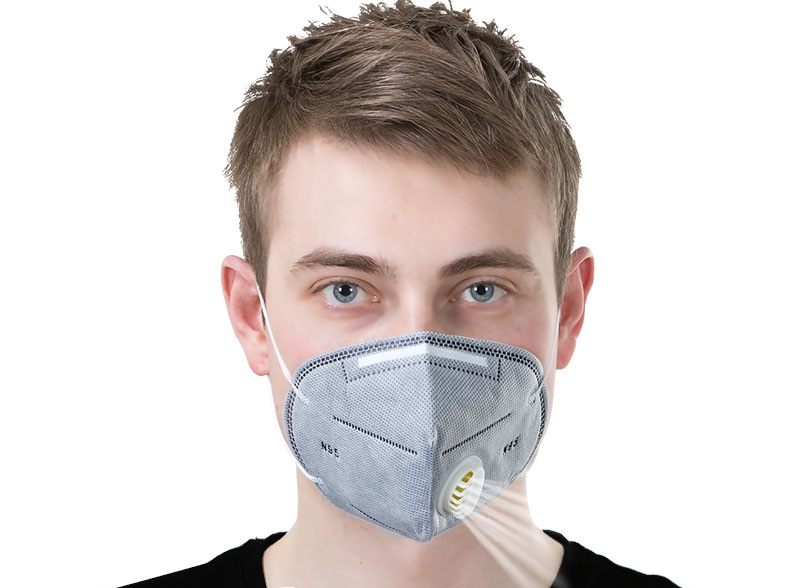face_mask: (283, 198, 546, 543)
